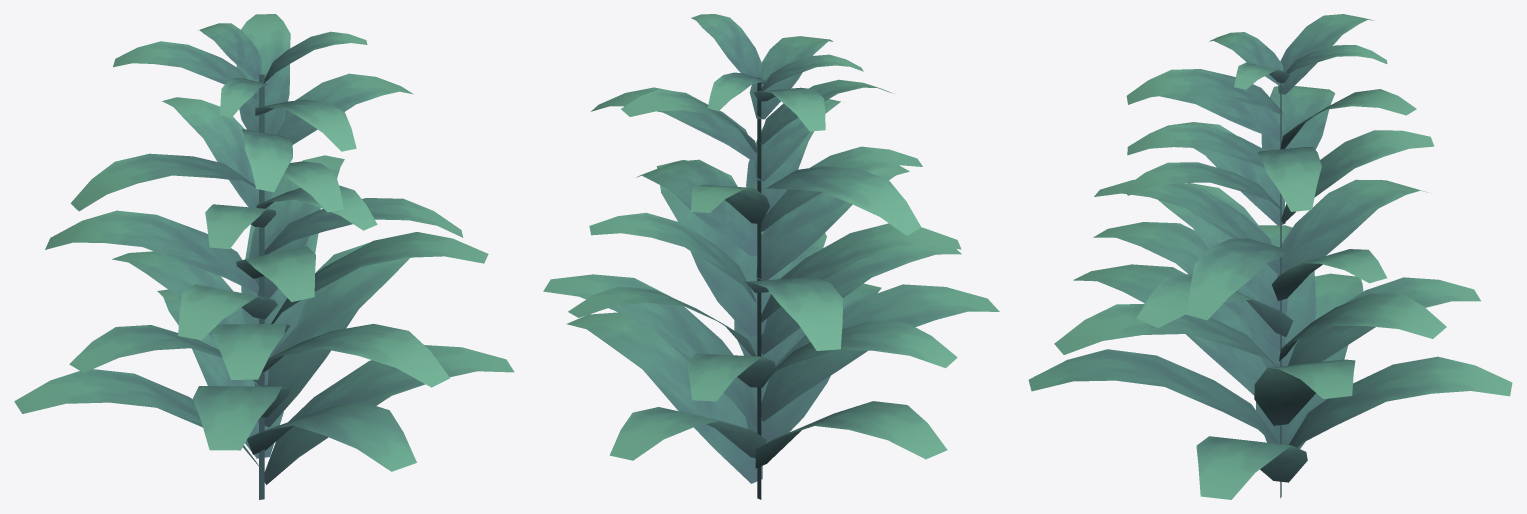
The model's file is Plants_1.1.fbx.
The picture shows the model from 3 angles, left to right: view 1: azimuth 30°, elevation 25°; view 2: azimuth 150°, elevation 25°; view 3: azimuth 270°, elevation 25°; orthographic projection.
Parts seen in each view (by area): view 1: 3A; view 2: 3A; view 3: 3A.
Boxes of the visible parts, x1,y1,x2,y2 form: 3A: (14,14,514,499); 3A: (543,14,999,499); 3A: (1028,14,1512,499).
Size of the model in its own units: 80.26 by 80.82 by 77.66.
